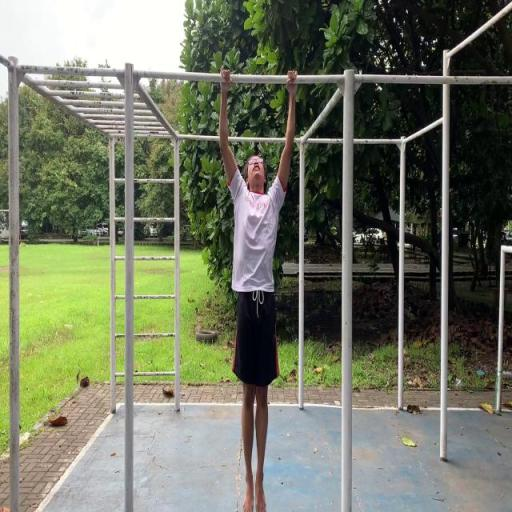Normal_BrenchPress: (217, 67, 299, 511)
